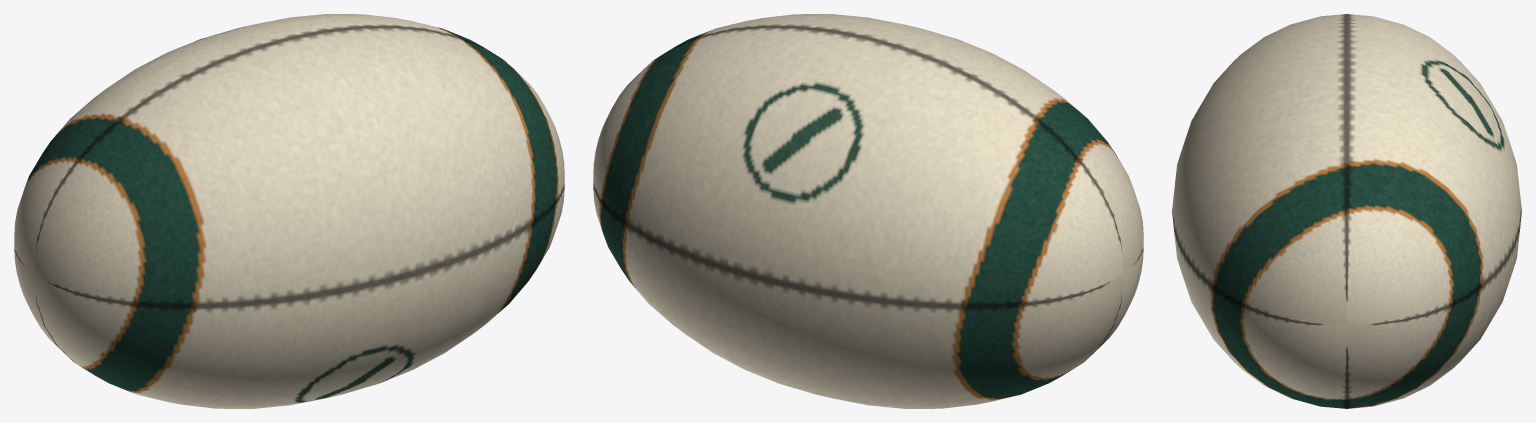
The model's file is ballon.glb.
3 views of the same model, side by side, from view 1: azimuth 30°, elevation 25°; view 2: azimuth 150°, elevation 25°; view 3: azimuth 270°, elevation 25° (orthographic). The views are drawn at different scales.
Visible parts, largest first — view 1: Ballon; view 2: Ballon; view 3: Ballon.
Boxes of the visible parts, x1=… form: Ballon: x1=14, y1=14, x2=564, y2=408; Ballon: x1=593, y1=14, x2=1143, y2=408; Ballon: x1=1172, y1=14, x2=1521, y2=408.
Bounding box in the file's own units: 0.29 × 0.188 × 0.188.
Materials: 1 (1 with a texture image).
